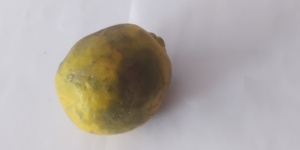BAD: (52, 18, 171, 136)
